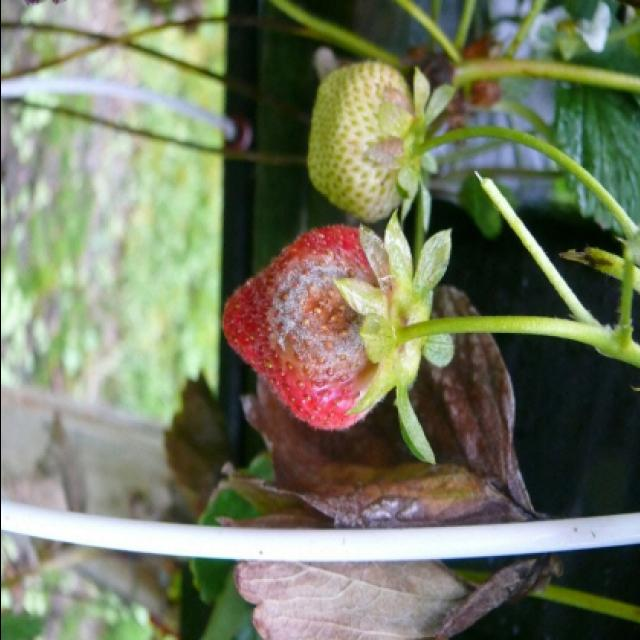Gray Mold: (238, 222, 392, 425)
